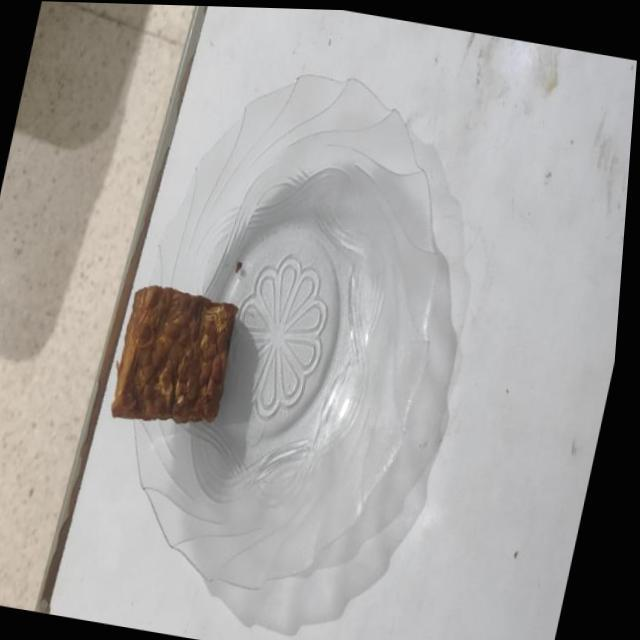tempe_goreng: (111, 286, 238, 424)
